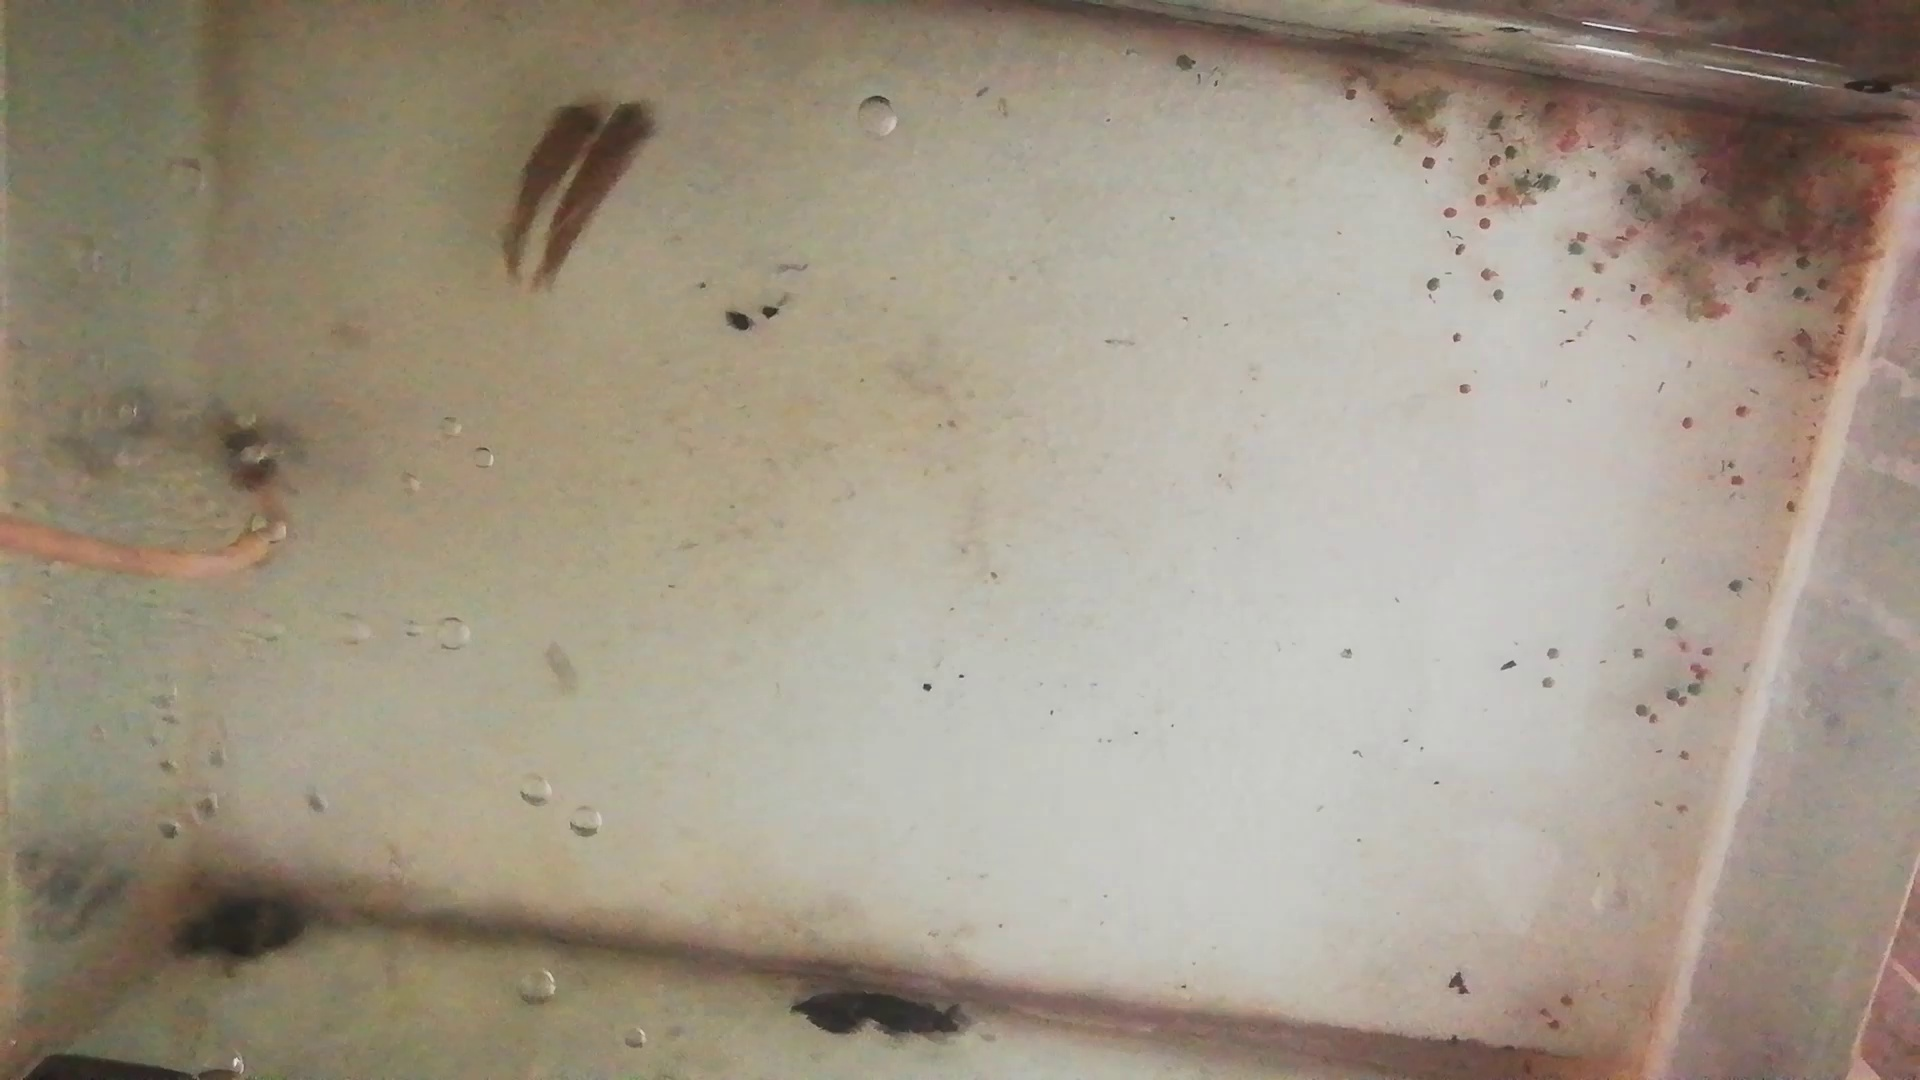fish: (539, 98, 651, 287), (498, 98, 601, 291)
